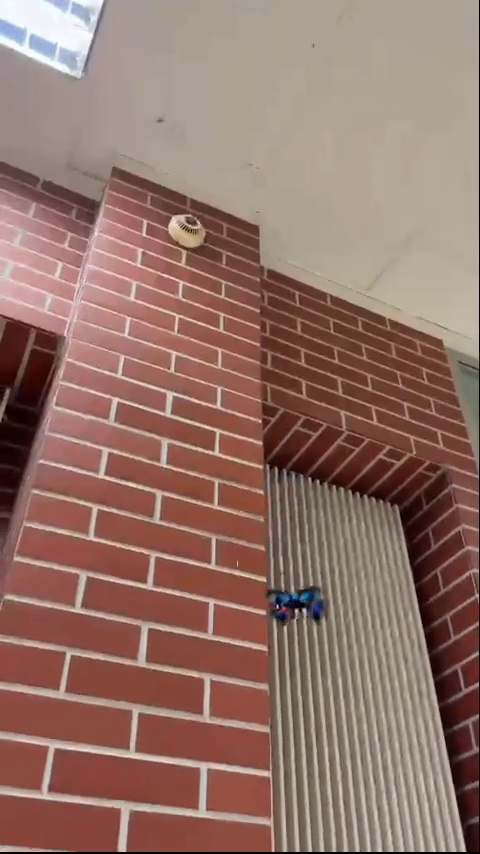drone: (269, 586, 328, 621)
